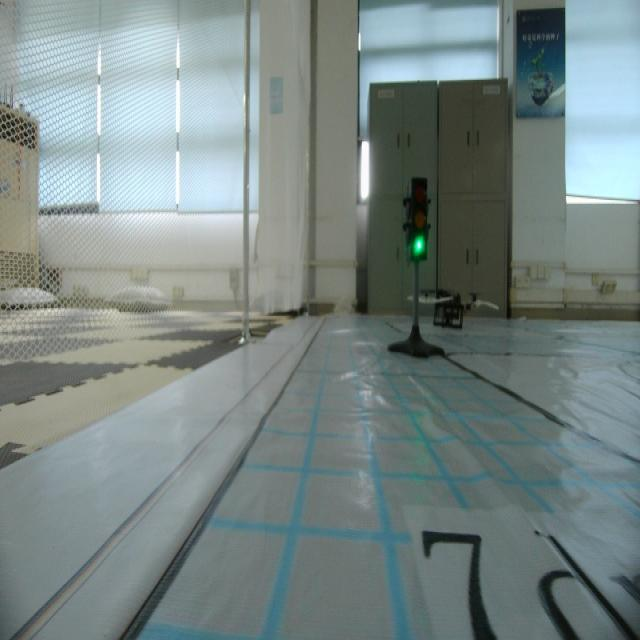green: (402, 172, 437, 269)
